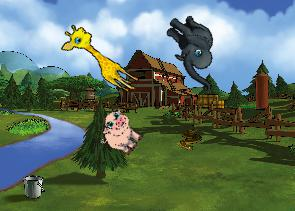elephant: (149, 8, 237, 92)
giraffe: (56, 20, 147, 96)
pig: (93, 105, 149, 160)
